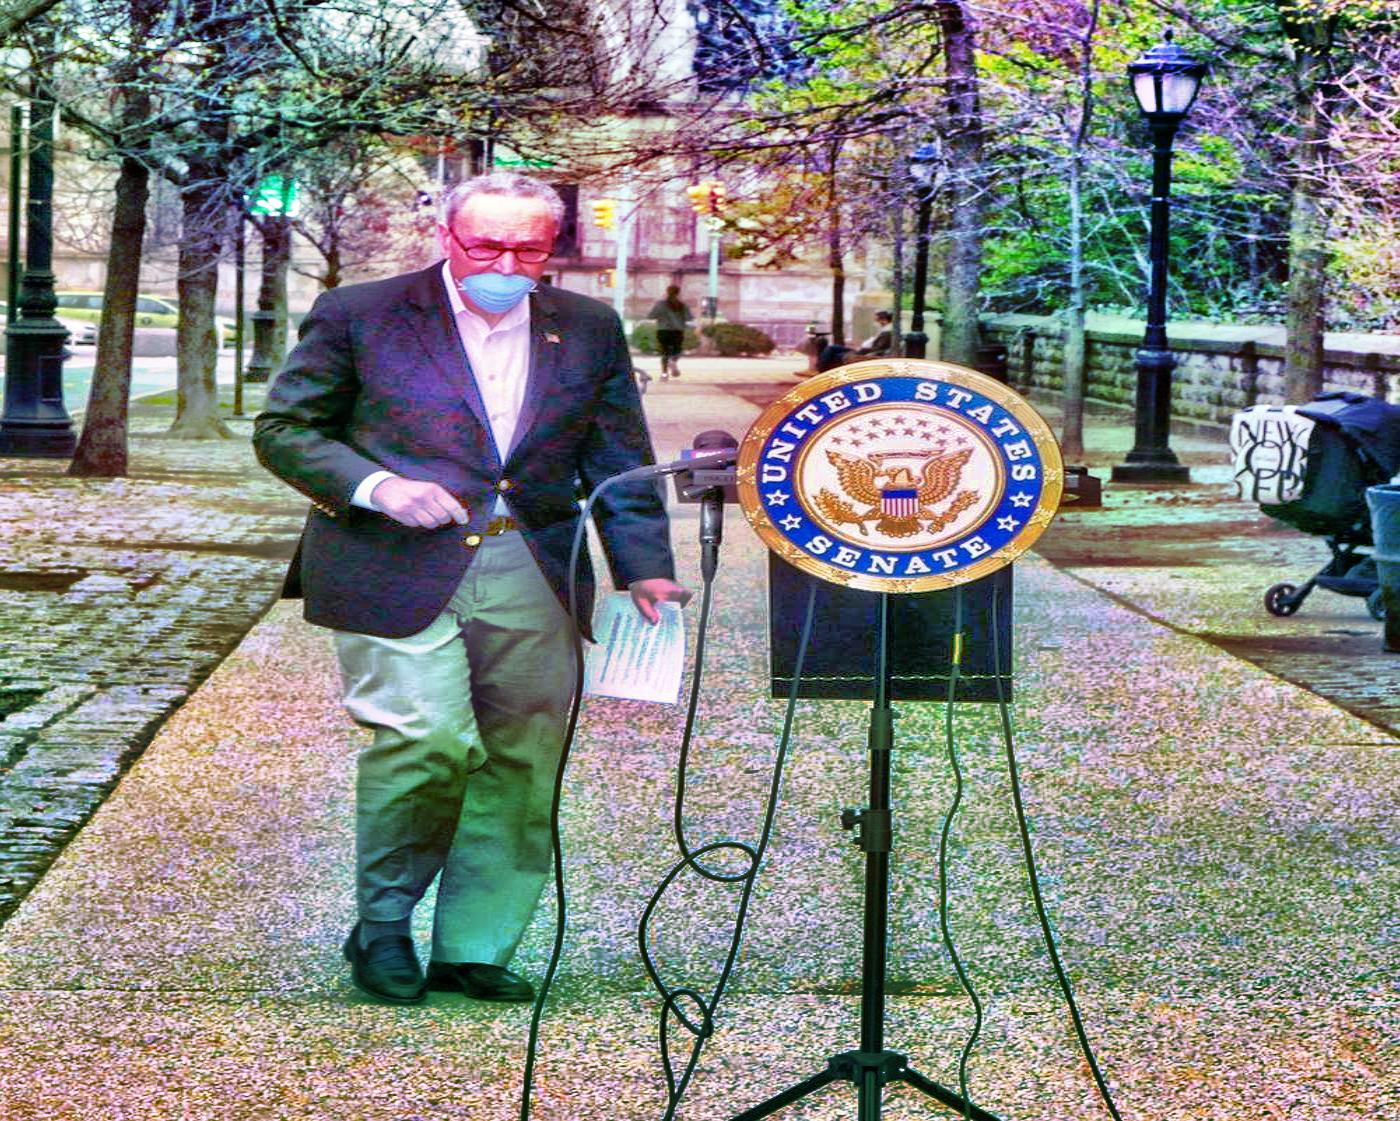mask_weared_incorrect: (432, 172, 567, 319)
